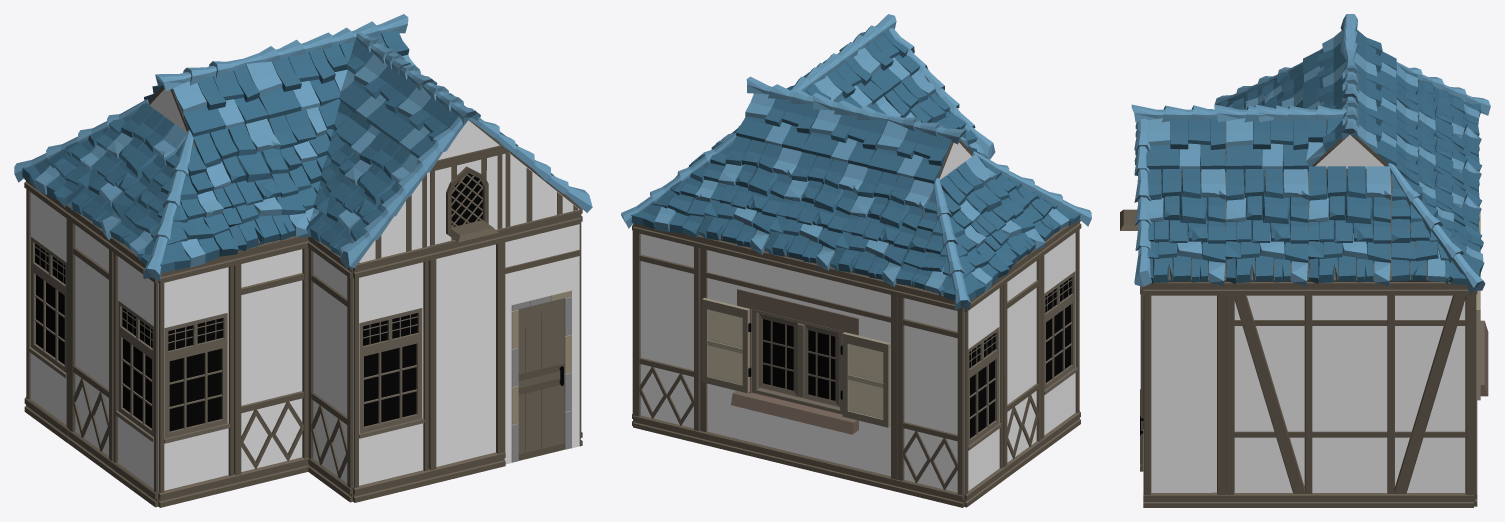
File: house_06_full.fbx
3 renders of one model, left to right at view 1: azimuth 30°, elevation 25°; view 2: azimuth 150°, elevation 25°; view 3: azimuth 270°, elevation 25°, orthographic. The views are drawn at different scales.
Parts seen in each view (by area): view 1: WALL_03_3, WINDOW_04_3, WINDOW_04_4, WALL_01_3, DOOR_02_2, WINDOW_04_5, WALL_01_4, WALL_01_2, WINDOW_04_6, ROOF_corner_out_4, ROOF_base_10, ROOF_base_11 (+21 smaller); view 2: WINDOW_06_2, WALL_01_5, WALL_01_6, WINDOW_04_6, WINDOW_04_5, WALL_01_4, ROOF_corner_out_3, ROOF_base_8, ROOF_base_7, ROOF_base_6, ROOF_base_11, ROOF_corner_out_2 (+14 smaller); view 3: WALL_02_2, WALL_03_4, ROOF_base_5, ROOF_base_4, ROOF_base_3, ROOF_corner_out_2, ROOF_base_small_5, ROOF_base_small_4, ROOF_base_6, ROOF_base_8, ROOF_base_7, ROOF_tile_side_2 (+19 smaller).
Boxes of the visible parts, box(x1,y1,x2,y2) form: WALL_03_3: box(428, 228, 505, 484); WINDOW_04_3: box(353, 246, 430, 502); WINDOW_04_4: box(158, 254, 235, 507); WALL_01_3: box(234, 236, 308, 489); DOOR_02_2: box(504, 209, 581, 464); WINDOW_04_5: box(111, 238, 158, 507); WALL_01_4: box(68, 206, 113, 474); WALL_01_2: box(308, 236, 352, 502); WINDOW_04_6: box(24, 178, 69, 443); ROOF_corner_out_4: box(110, 130, 238, 281); ROOF_base_10: box(193, 118, 309, 250); ROOF_base_11: box(66, 103, 186, 239); WINDOW_06_2: box(699, 235, 897, 491); WALL_01_5: box(896, 284, 964, 507); WALL_01_6: box(633, 223, 700, 443); WINDOW_04_6: box(964, 275, 1004, 507); WINDOW_04_5: box(1041, 220, 1081, 451); WALL_01_4: box(1003, 248, 1042, 479); ROOF_corner_out_3: box(896, 178, 1009, 310); ROOF_base_8: box(830, 168, 933, 287); ROOF_base_7: box(764, 152, 867, 270); ROOF_base_6: box(698, 136, 801, 254); ROOF_base_11: box(940, 154, 1045, 269); ROOF_corner_out_2: box(621, 132, 736, 237); WALL_02_2: box(1226, 282, 1473, 507); WALL_03_4: box(1143, 282, 1225, 507); ROOF_base_5: box(1307, 166, 1391, 286); ROOF_base_4: box(1225, 166, 1308, 286); ROOF_base_3: box(1143, 166, 1226, 286); ROOF_corner_out_2: box(1387, 163, 1485, 294); ROOF_base_small_5: box(1226, 118, 1308, 172); ROOF_base_small_4: box(1146, 117, 1225, 172); ROOF_base_6: box(1396, 134, 1481, 238); ROOF_base_8: box(1396, 64, 1482, 171); ROOF_base_7: box(1396, 99, 1482, 206); ROOF_tile_side_2: box(1134, 118, 1151, 286).
Bounding box in the file's own units: 541 × 465 × 449.
